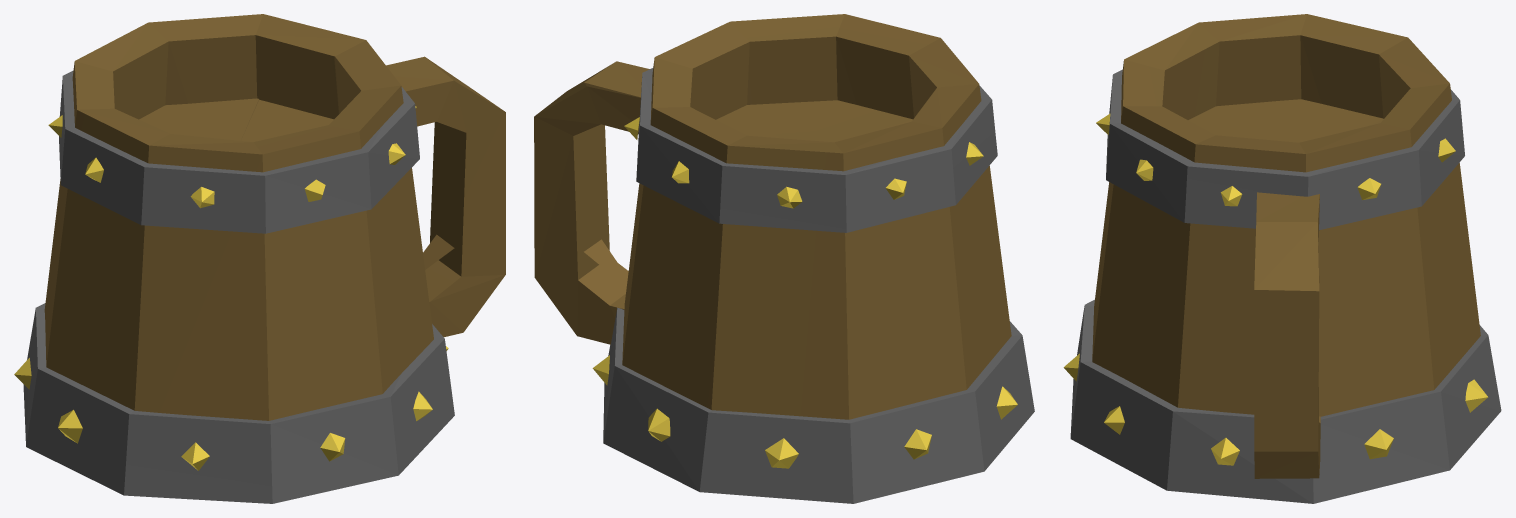
File: Vaso.fbx
3 views of the same model, side by side, from view 1: azimuth 30°, elevation 25°; view 2: azimuth 150°, elevation 25°; view 3: azimuth 270°, elevation 25° (orthographic).
Parts seen in each view (by area): view 1: Vaso; view 2: Vaso; view 3: Vaso.
Boxes of the visible parts, bbox=[...] form: Vaso: bbox=[14, 14, 505, 503]; Vaso: bbox=[534, 14, 1034, 503]; Vaso: bbox=[1063, 14, 1501, 503].
Size of the model in its own units: 1 by 0.6992 by 0.8477.
